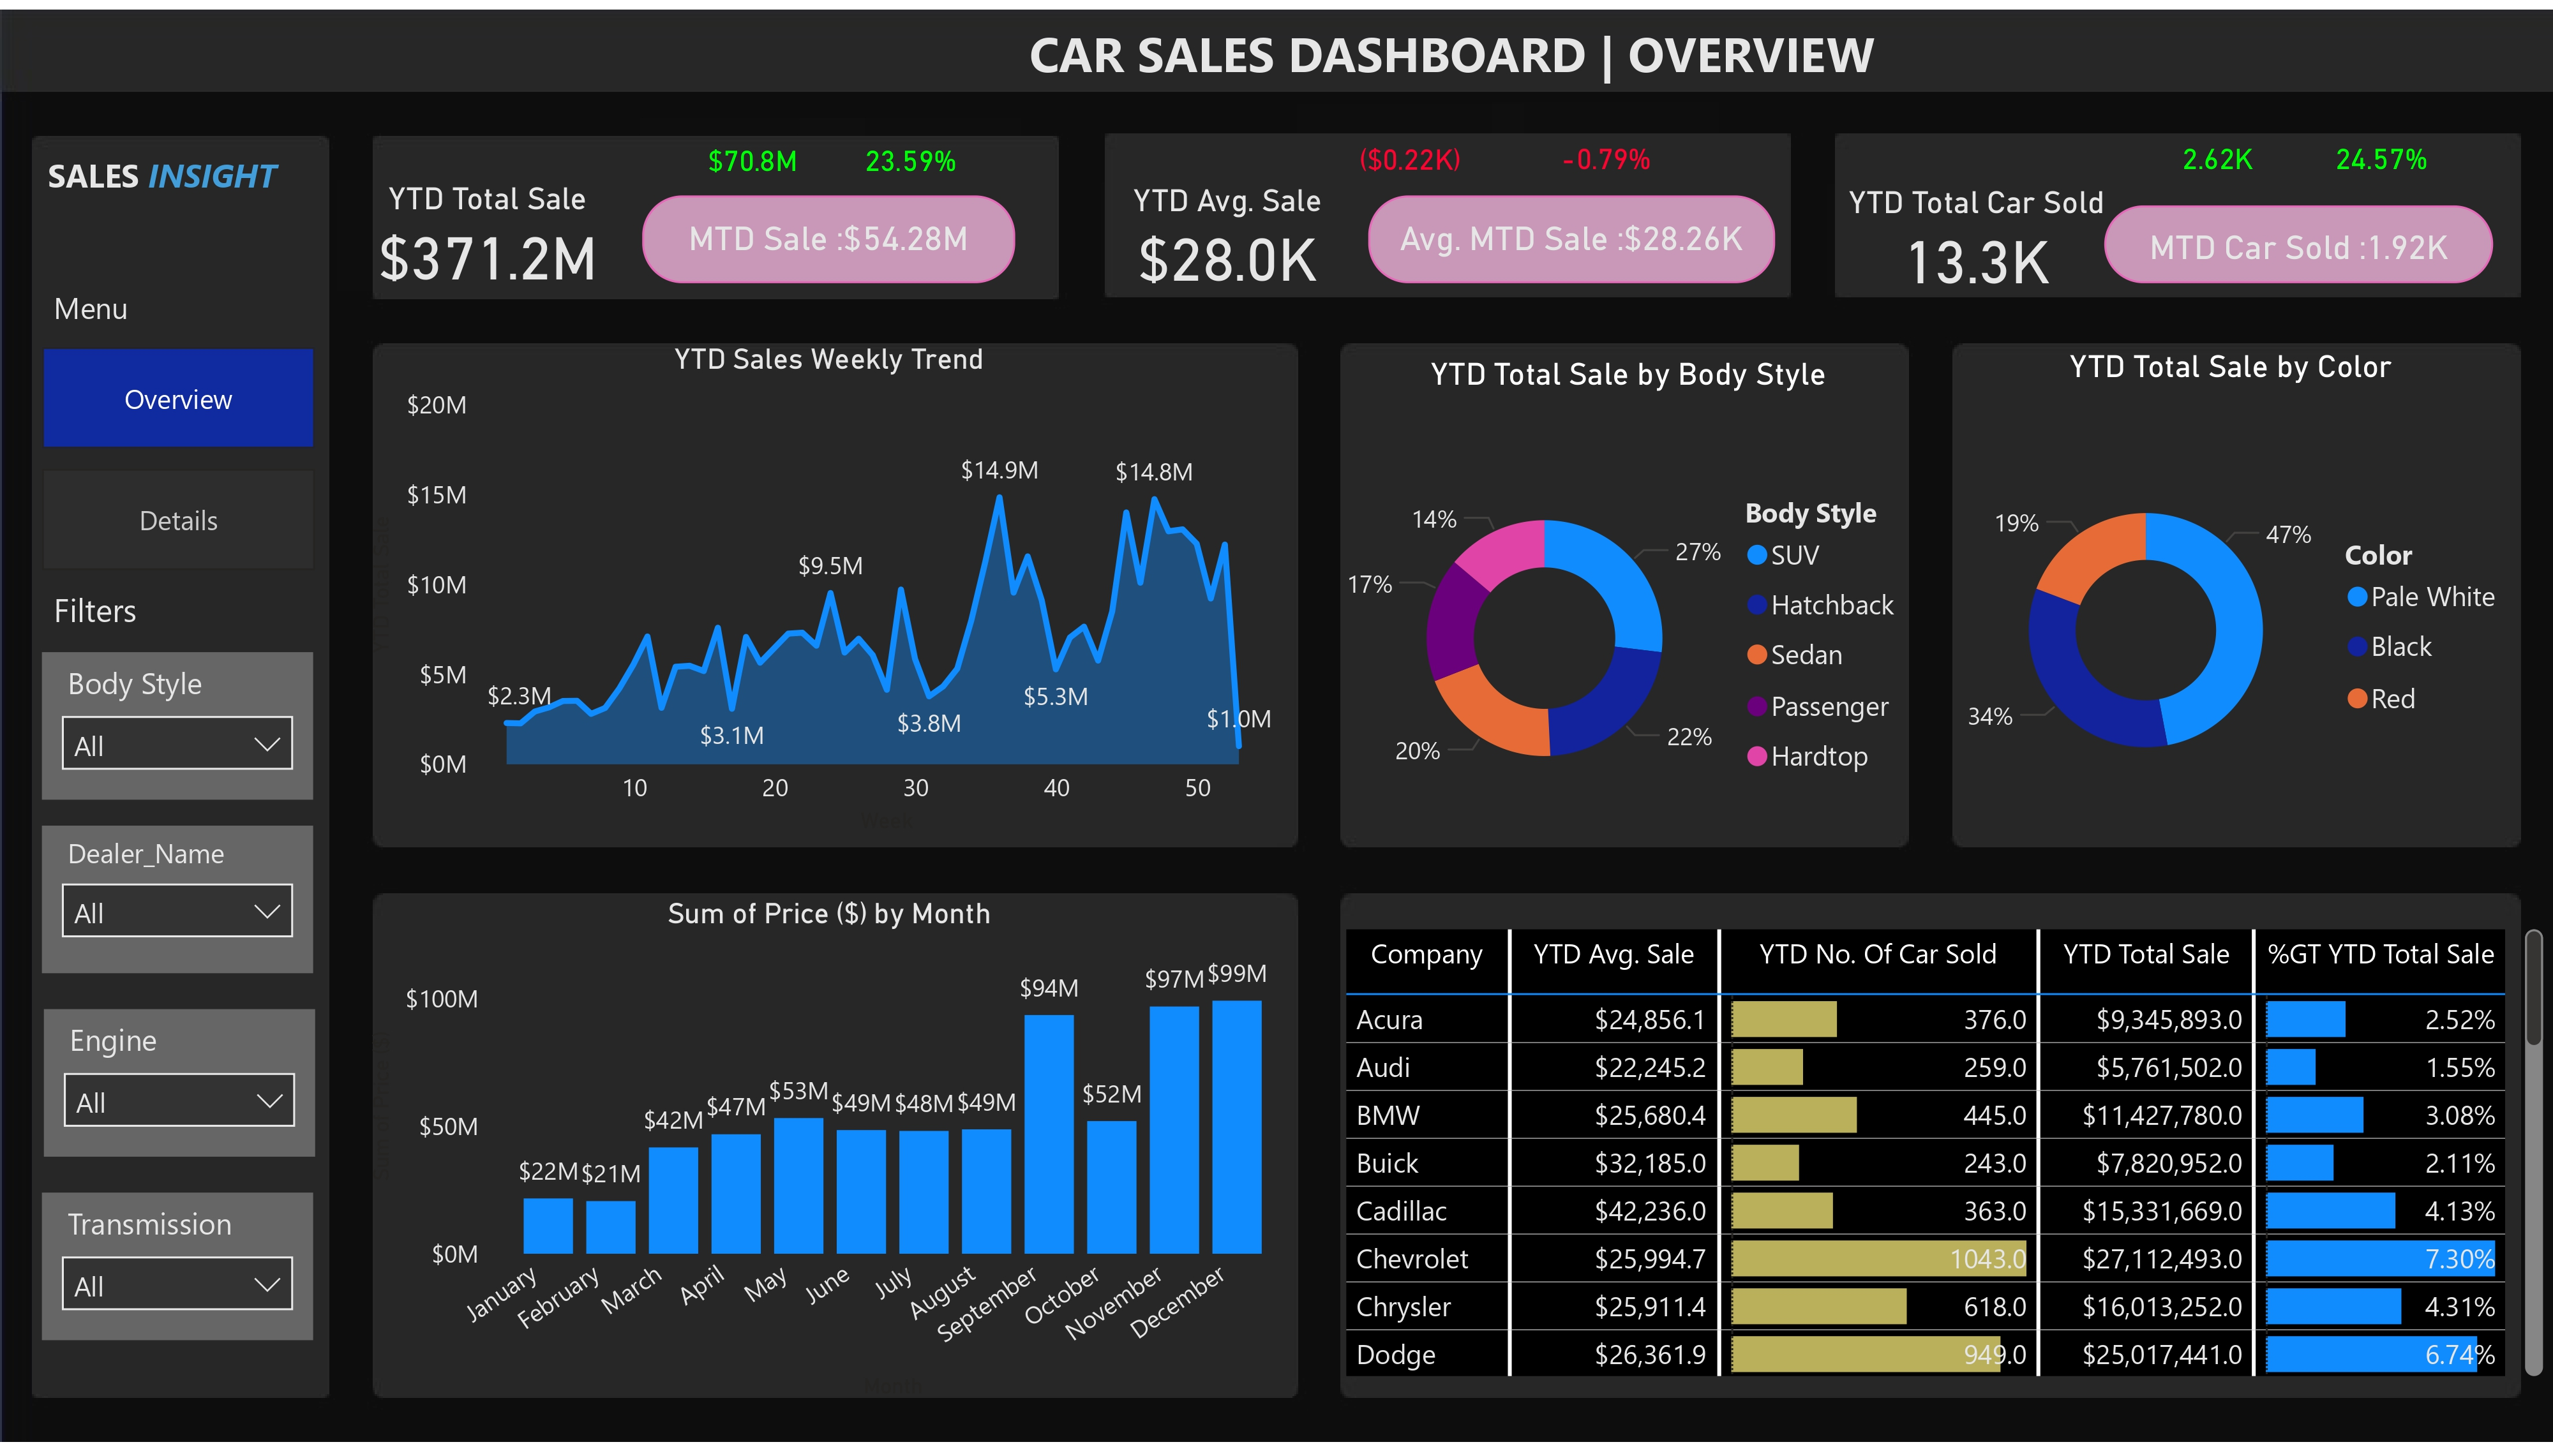

The dashboard page shown, as its layout file describes it:
{"tool":"powerbi","page":{"name":"Overview","canvas":[1280,720],"ordinal":0},"visuals":[{"type":"card","title":"YTD Total Sale","fields":{"Values":["Calender Date.Price ($) YTD"]},"box":[168.8,85.1,150.9,56.3],"z":0},{"type":"card","fields":{"Values":["Calender Date.Sales Difference"]},"box":[320.7,54.2,112.6,45.6],"z":1000},{"type":"card","fields":{"Values":["Calender Date.YTD  Total Sale YoY%"]},"box":[400.5,54.2,111.2,45.6],"z":2000},{"type":"card","fields":{"Values":["Calender Date.MTD KPI"]},"box":[322.1,92.7,186.7,44.2],"z":3000},{"type":"card","title":"YTD Avg. Sale","fields":{"Values":["Calender Date.YTD Avg. Sale"]},"box":[551.6,85.5,126.9,55.6],"z":4000},{"type":"card","fields":{"Values":["Calender Date.Avg. Price Diff."]},"box":[650,47,114,58.4],"z":5000},{"type":"card","fields":{"Values":["Calender Date.YOY Avg. Price Growth"]},"box":[747.8,46.2,114.4,59.4],"z":6000},{"type":"card","fields":{"Values":["Calender Date.Avg. MTD Sale"]},"box":[685.6,92.8,203.6,44],"z":7000},{"type":"card","title":"YTD Total Car Sold","fields":{"Values":["Calender Date.YTD No. Of Car Sold"]},"box":[916.1,86.5,149.7,56.3],"z":8000},{"type":"card","fields":{"Values":["Calender Date.YTD No. Of Car Sold minus PYTD Car Sold"]},"box":[1055.3,61.9,114,27.7],"z":9000},{"type":"card","fields":{"Values":["Calender Date.YTD No. Of Car Sold % difference from PYTD Car Sold"]},"box":[1136.7,61.9,114,27.7],"z":10000},{"type":"card","fields":{"Values":["Calender Date.MTD Car Sold"]},"box":[1055.3,97.7,195.4,39.1],"z":11000},{"type":"areaChart","title":"YTD Sales Weekly Trend","fields":{"Category":["Calender Date.Week"],"Y":["Calender Date.YTD  Total Sale"]},"box":[181.1,167.4,469.3,249.7],"z":12000},{"type":"donutChart","fields":{"Category":["car_data.Body Style"],"Y":["Calender Date.YTD  Total Sale"]},"box":[669.3,172.6,294.8,265.4],"z":13000},{"type":"donutChart","fields":{"Category":["car_data.Color"],"Y":["Calender Date.YTD  Total Sale"]},"box":[970.6,169.4,294.8,265.4],"z":14000},{"type":"columnChart","fields":{"Category":["Calender Date.Month"],"Y":["Sum(car_data.Price ($))"]},"box":[181.2,445.4,469.5,255.2],"z":15000},{"type":"tableEx","fields":{"Values":["car_data.Company","Calender Date.YTD Avg. Sale","Calender Date.YTD No. Of Car Sold","Calender Date.YTD  Total Sale1","Calender Date.YTD  Total Sale"]},"box":[668.8,456,611.5,234],"z":16000},{"type":"slicer","fields":{"Values":["car_data.Body Style"]},"box":[20.6,322.5,135.8,74.1],"z":17000},{"type":"slicer","fields":{"Values":["car_data.Dealer_Name"]},"box":[20.6,408.9,135.8,74.1],"z":18000},{"type":"slicer","fields":{"Values":["car_data.Engine"]},"box":[22,500.9,135.8,74.1],"z":19000},{"type":"slicer","fields":{"Values":["car_data.Transmission"]},"box":[20.6,592.8,135.8,74.1],"z":20000},{"type":"textbox","box":[22,285.4,116.6,37],"z":21000},{"type":"textbox","box":[494,0,467.9,48],"z":22000},{"type":"textbox","box":[19.2,67.2,138.6,42.5],"z":23000},{"type":"pageNavigator","box":[20.6,168.8,137.2,112.5],"z":24000},{"type":"textbox","box":[22,134.5,116.6,37],"z":25000}]}

Visuals, with their boxes in screenshot pixels (x1, y1, x2, y2), scaled from the page's 1280x720 canvas onto the 2553x1456 screenshot:
"YTD Total Sale" card: (337, 172, 638, 286)
card - Calender Date.Sales Difference: (640, 110, 864, 202)
card - Calender Date.YTD  Total Sale YoY%: (799, 110, 1021, 202)
card - Calender Date.MTD KPI: (643, 188, 1015, 277)
"YTD Avg. Sale" card: (1100, 173, 1353, 285)
card - Calender Date.Avg. Price Diff.: (1296, 95, 1524, 213)
card - Calender Date.YOY Avg. Price Growth: (1492, 93, 1719, 214)
card - Calender Date.Avg. MTD Sale: (1367, 188, 1774, 277)
"YTD Total Car Sold" card: (1827, 175, 2126, 289)
card - Calender Date.YTD No. Of Car Sold minus PYTD Car Sold: (2105, 125, 2332, 181)
card - Calender Date.YTD No. Of Car Sold % difference from PYTD Car Sold: (2267, 125, 2494, 181)
card - Calender Date.MTD Car Sold: (2105, 198, 2494, 277)
"YTD Sales Weekly Trend" areaChart: (361, 339, 1297, 843)
donutChart - car_data.Body Style x Calender Date.YTD  Total Sale: (1335, 349, 1923, 886)
donutChart - car_data.Color x Calender Date.YTD  Total Sale: (1936, 343, 2524, 879)
columnChart - Calender Date.Month x Sum(car_data.Price ($)): (361, 901, 1298, 1417)
tableEx - car_data.Company x Calender Date.YTD Avg. Sale: (1334, 922, 2552, 1395)
slicer - car_data.Body Style: (41, 652, 312, 802)
slicer - car_data.Dealer_Name: (41, 827, 312, 977)
slicer - car_data.Engine: (44, 1013, 315, 1163)
slicer - car_data.Transmission: (41, 1199, 312, 1349)
textbox: (44, 577, 276, 652)
textbox: (985, 0, 1919, 97)
textbox: (38, 136, 315, 222)
pageNavigator: (41, 341, 315, 569)
textbox: (44, 272, 276, 347)
